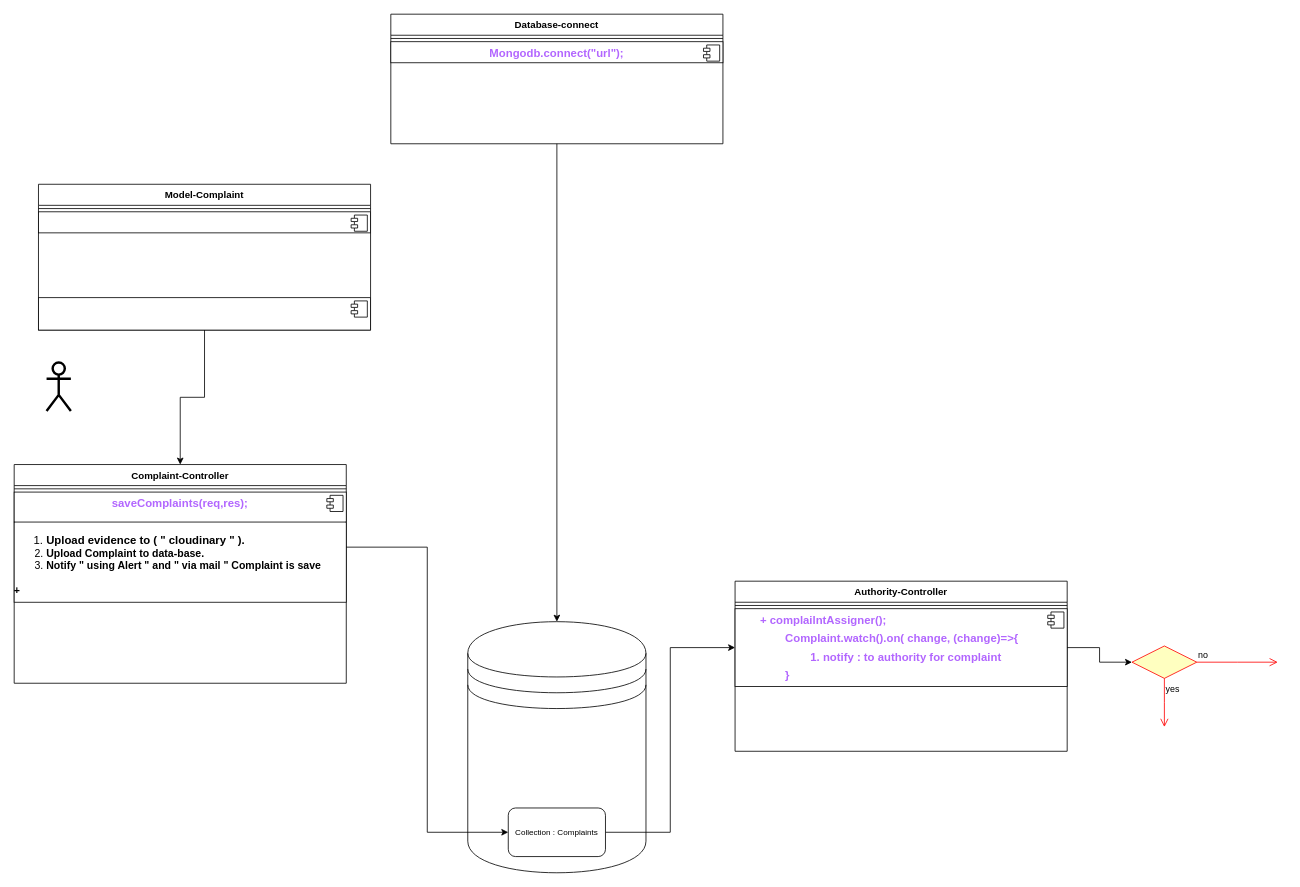
This 1300x887 diagram has some shape labels left out. The centre of each missing label's shape, as x and y in pixels:
Actor: point 58,386
isAccept: point 1164,661
mongoose.model("Complaint",schema):: point 204,313
mongoose.schema({schema object});: point 204,222
